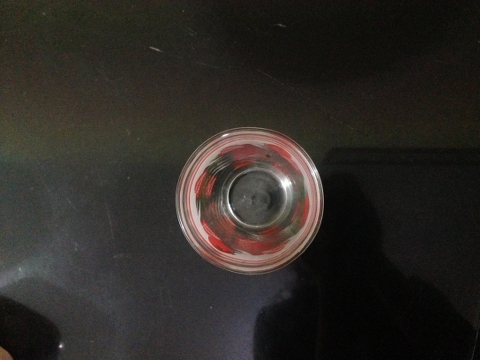tempat minum: (174, 126, 325, 277)
